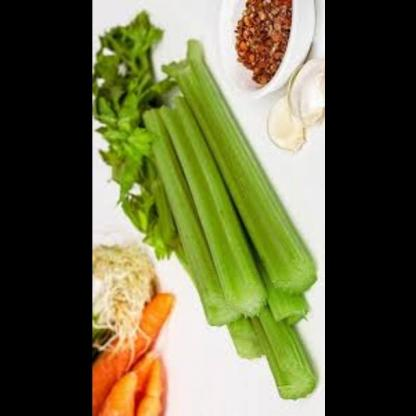carrot: (91, 295, 169, 415)
celery: (136, 38, 321, 402), (91, 7, 164, 264)
